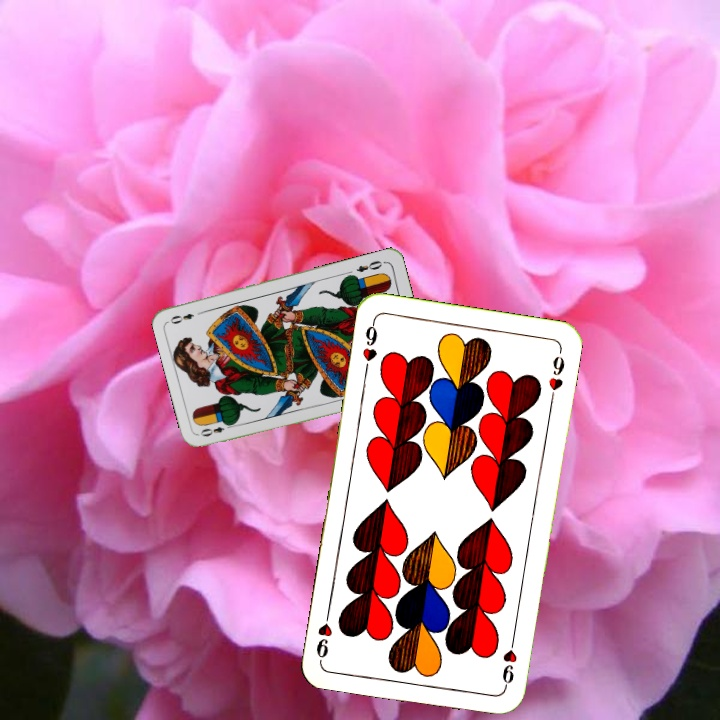EO: (196, 419, 236, 439), (352, 256, 385, 275)
H9: (358, 316, 380, 375), (498, 632, 520, 691)
